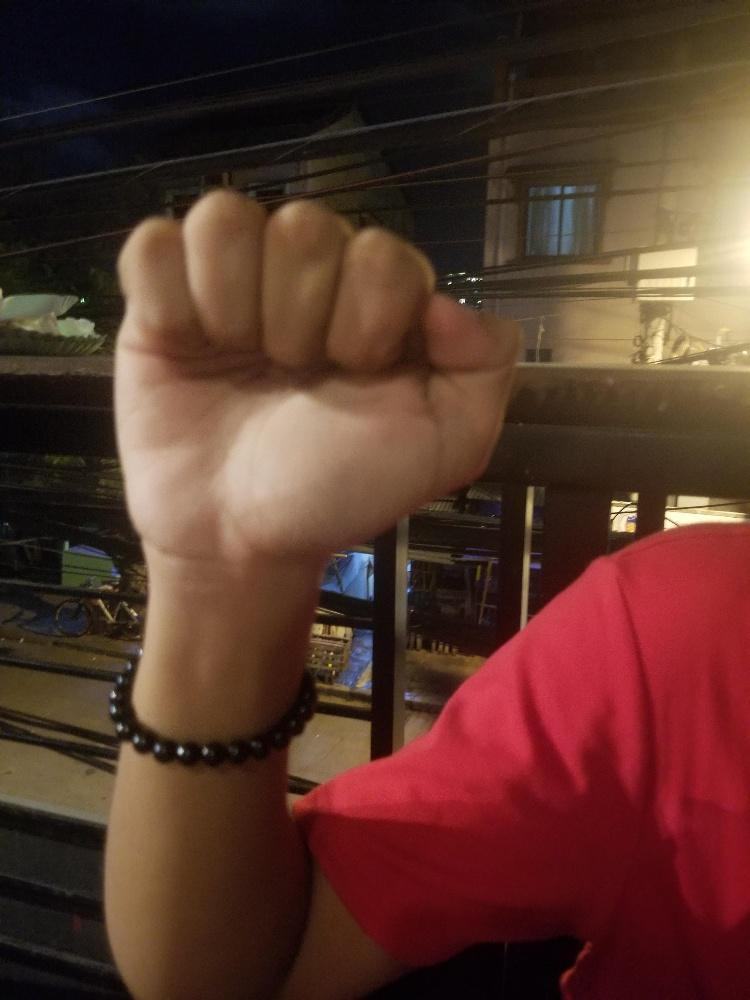a: (108, 186, 525, 573)
